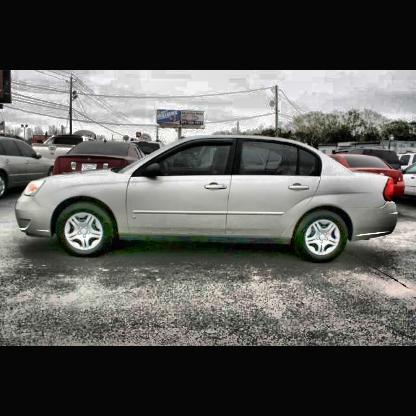Chevrolet Malibu Sedan 2007: (18, 136, 401, 263)
